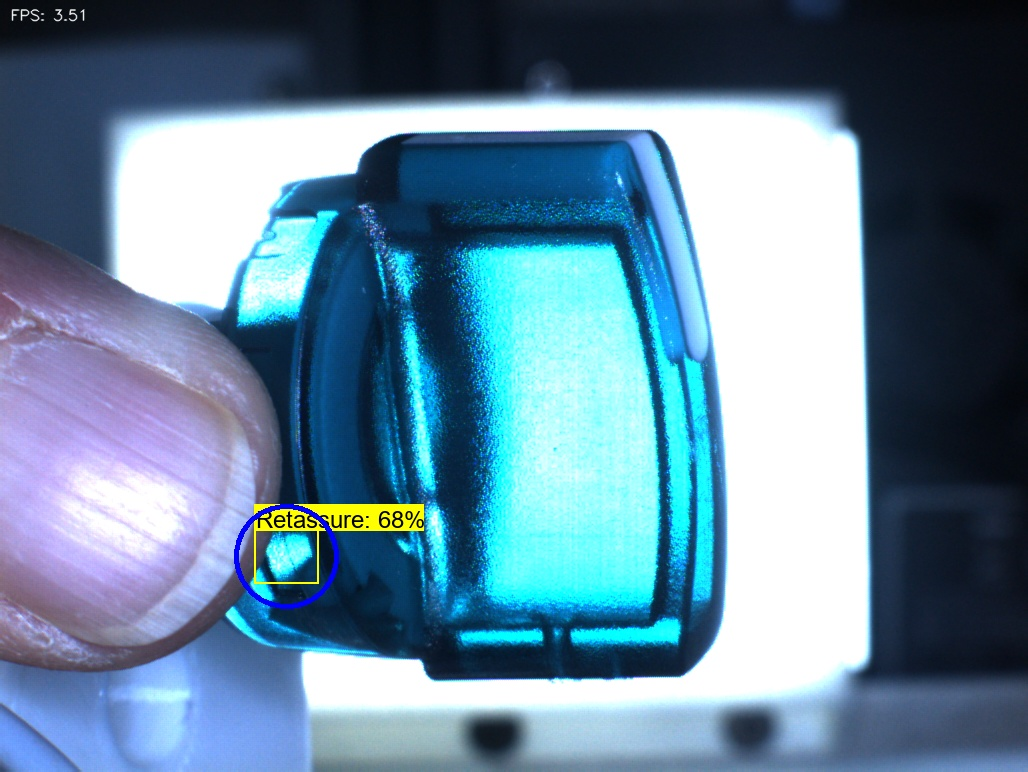Bulle: (508, 585, 592, 693)
